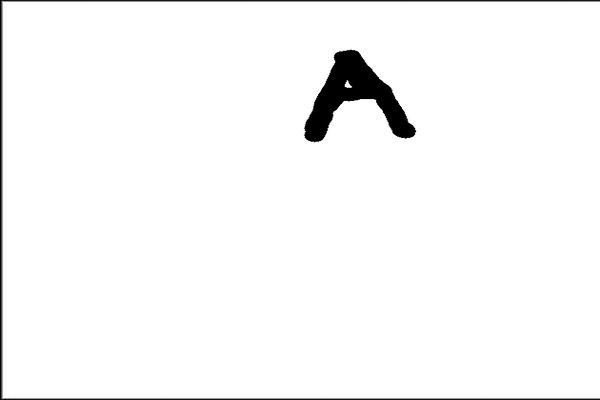A: (291, 39, 425, 148)
